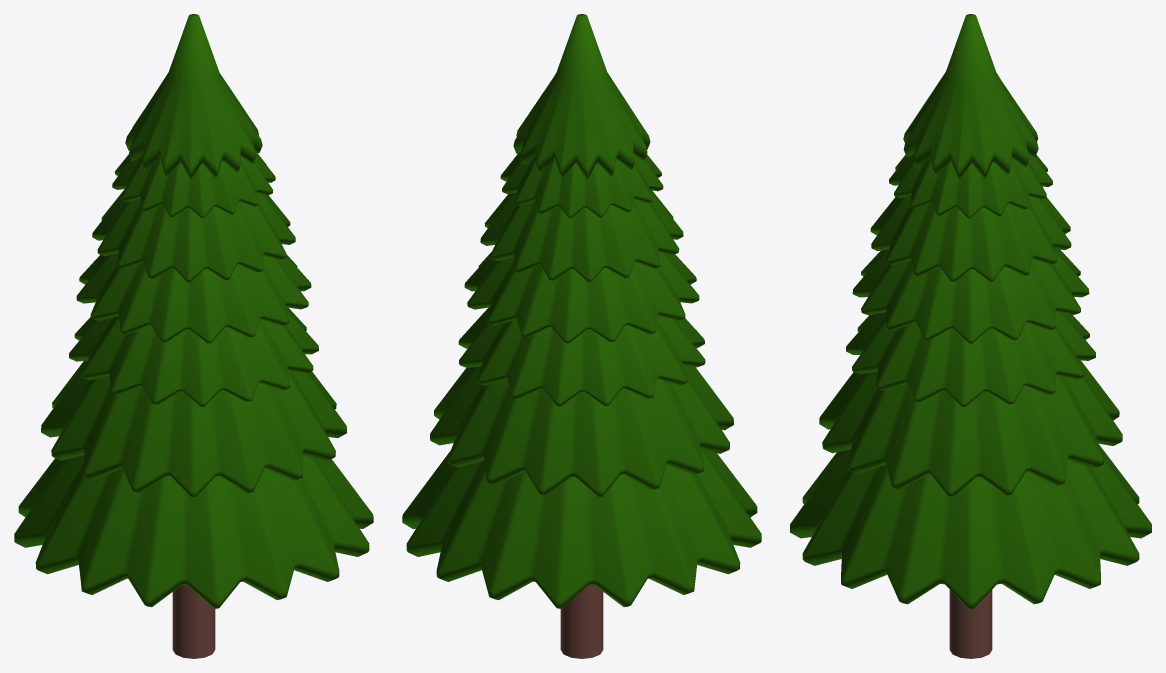
File: Pine1UHP.fbx
The picture shows the model from 3 angles, left to right: view 1: azimuth 30°, elevation 25°; view 2: azimuth 150°, elevation 25°; view 3: azimuth 270°, elevation 25°; orthographic projection.
Visible parts, largest first — view 1: Pine1UHP; view 2: Pine1UHP; view 3: Pine1UHP.
Part boxes in pixels (box(x1,y1,x2,y2)): Pine1UHP: box(14, 14, 373, 658); Pine1UHP: box(402, 14, 761, 658); Pine1UHP: box(790, 14, 1151, 658).
Size of the model in its own units: 193 by 374 by 193.
